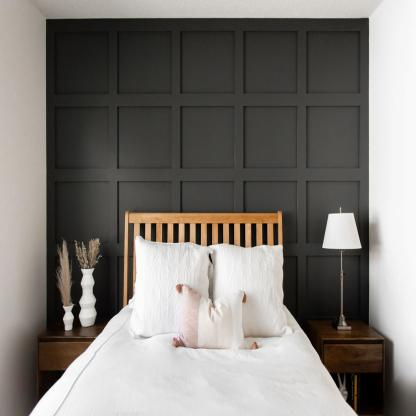Wall Panel: (52, 14, 370, 344)
